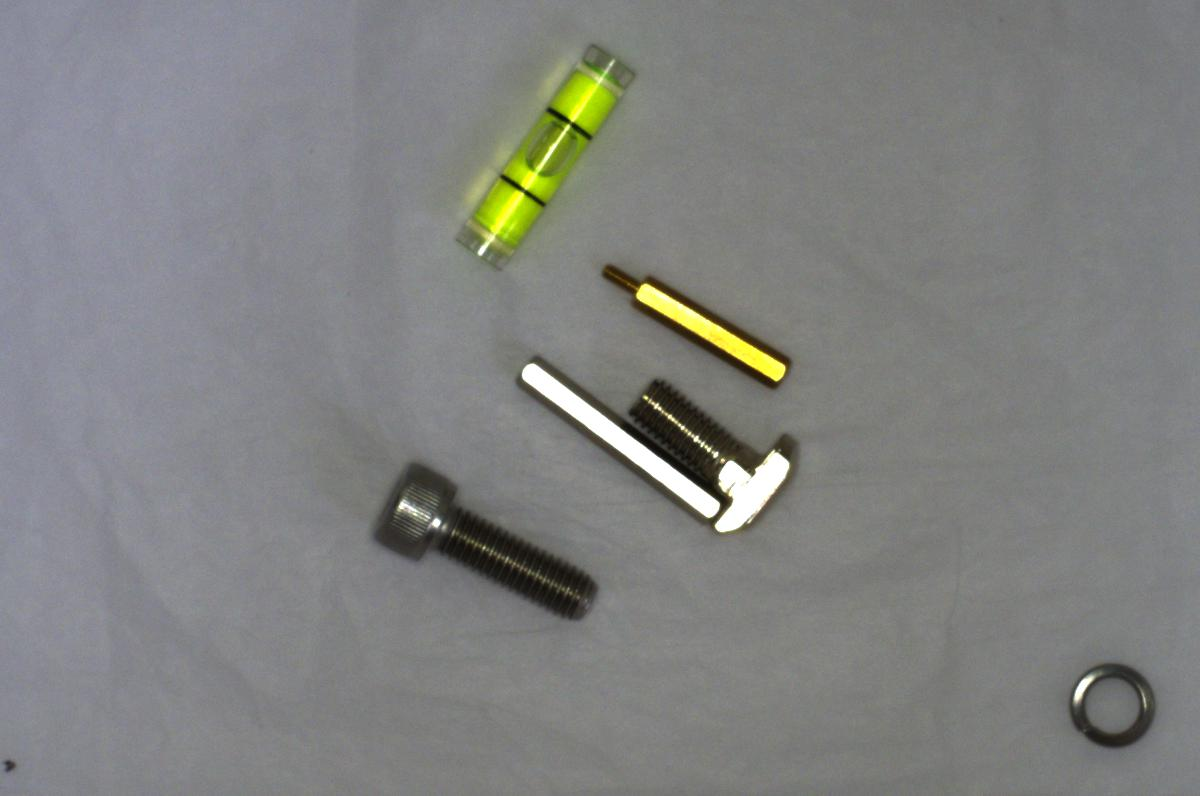Double hexagonal column: (511, 355, 722, 532)
Hexagon pillar: (600, 258, 794, 388)
Hexagon screw: (361, 450, 611, 629)
Horizontal bubble: (438, 36, 641, 272)
Spring washer: (1064, 656, 1155, 756)
T-shaped screw: (622, 376, 804, 539)
